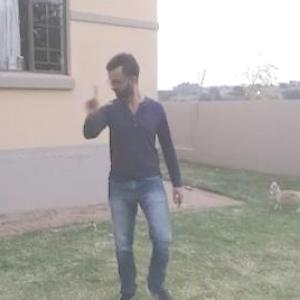land_hand: (79, 78, 111, 119)
